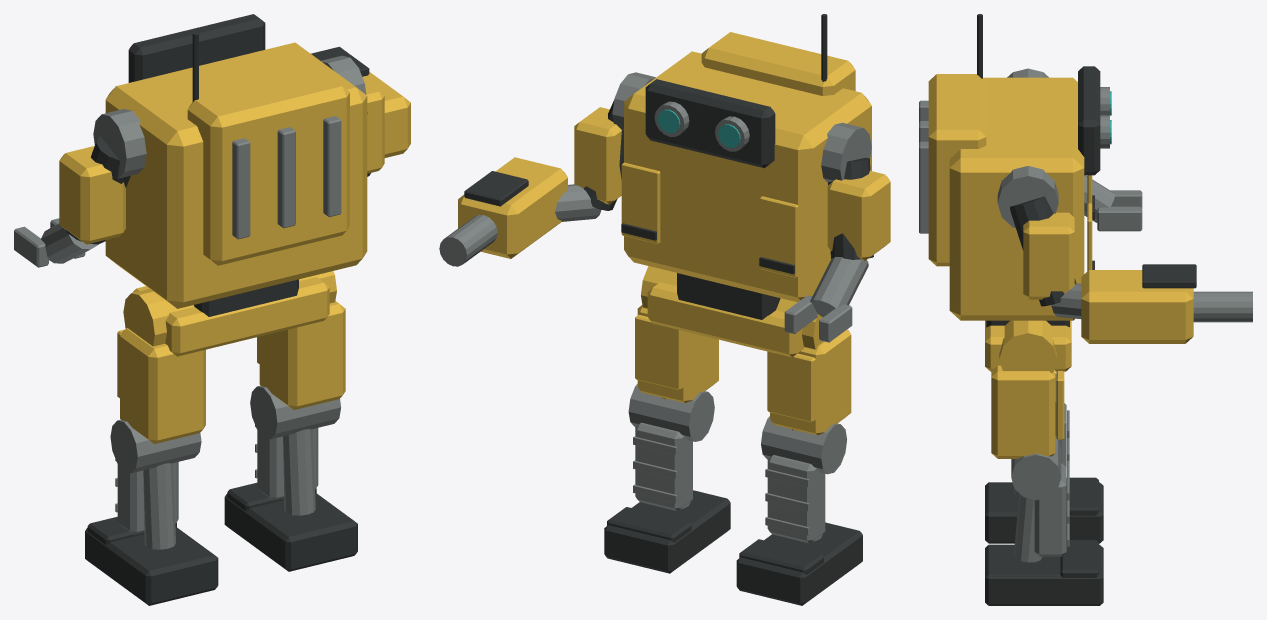
Rendered from player.glb.
The picture shows the model from 3 angles, left to right: view 1: azimuth 30°, elevation 25°; view 2: azimuth 150°, elevation 25°; view 3: azimuth 270°, elevation 25°; orthographic projection. The views are drawn at different scales.
Visible parts, largest first — view 1: Chassis, left_thigh_mesh, ToolArms, left_foot_mesh, right_foot_mesh, right_shin_mesh, left_shin_mesh, right_thigh_mesh, BlasterReceiver; view 2: Chassis, ToolArms, left_shin_mesh, left_thigh_mesh, right_shin_mesh, left_foot_mesh, right_foot_mesh, BlasterReceiver, right_thigh_mesh, SensorMesh, FixedBarrel; view 3: Chassis, right_thigh_mesh, BlasterReceiver, ToolArms, right_foot_mesh, right_shin_mesh, left_foot_mesh, FixedBarrel, SensorMesh, left_shin_mesh.
Boxes of the visible parts, x1,y1,x2,y2 form: Chassis: (93, 14, 367, 356); left_thigh_mesh: (117, 288, 205, 444); ToolArms: (14, 81, 384, 267); left_foot_mesh: (85, 516, 218, 605); right_foot_mesh: (224, 482, 357, 571); right_shin_mesh: (250, 385, 341, 515); left_shin_mesh: (110, 419, 201, 549); right_thigh_mesh: (257, 271, 345, 409); BlasterReceiver: (311, 46, 410, 157); Chassis: (612, 14, 871, 357); ToolArms: (555, 100, 890, 342); left_shin_mesh: (761, 416, 846, 543); left_thigh_mesh: (767, 298, 851, 435); right_shin_mesh: (628, 384, 714, 510); left_foot_mesh: (736, 522, 862, 605); right_foot_mesh: (604, 490, 730, 573); BlasterReceiver: (458, 157, 567, 258); right_thigh_mesh: (635, 266, 718, 402); SensorMesh: (654, 101, 749, 151); FixedBarrel: (439, 215, 497, 266); Chassis: (919, 14, 1100, 371); right_thigh_mesh: (991, 320, 1064, 458); BlasterReceiver: (1081, 264, 1196, 343); ToolArms: (1010, 175, 1142, 318); right_foot_mesh: (985, 540, 1103, 605); right_shin_mesh: (1011, 435, 1069, 562); left_foot_mesh: (985, 477, 1103, 543); FixedBarrel: (1193, 291, 1252, 322); SensorMesh: (1100, 87, 1111, 148); left_shin_mesh: (1014, 373, 1069, 497).
Bounding box in the file's own units: 1.22 × 1.78 × 1.04.
